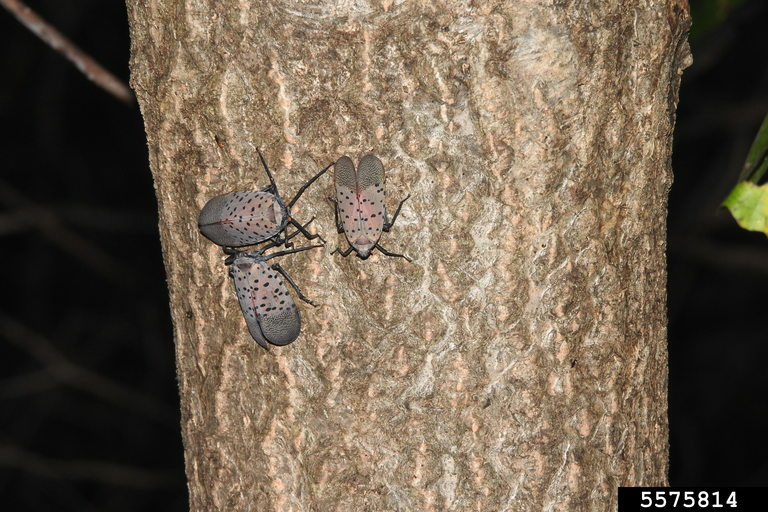adult: (176, 143, 336, 248), (324, 138, 426, 273), (213, 242, 308, 354)
